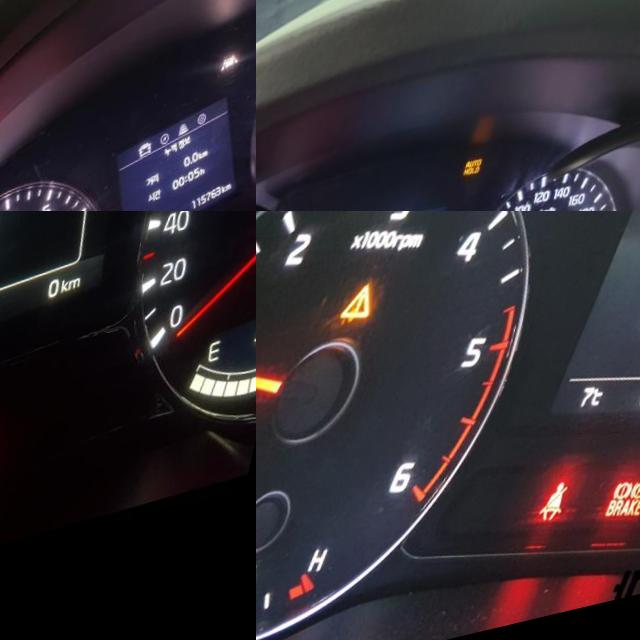Central Warning lamp: (349, 285, 393, 333)
